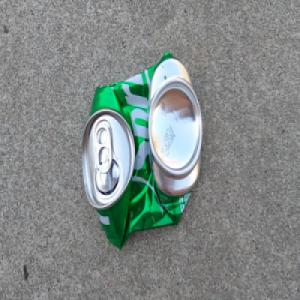SodaCan: (80, 50, 203, 250)
